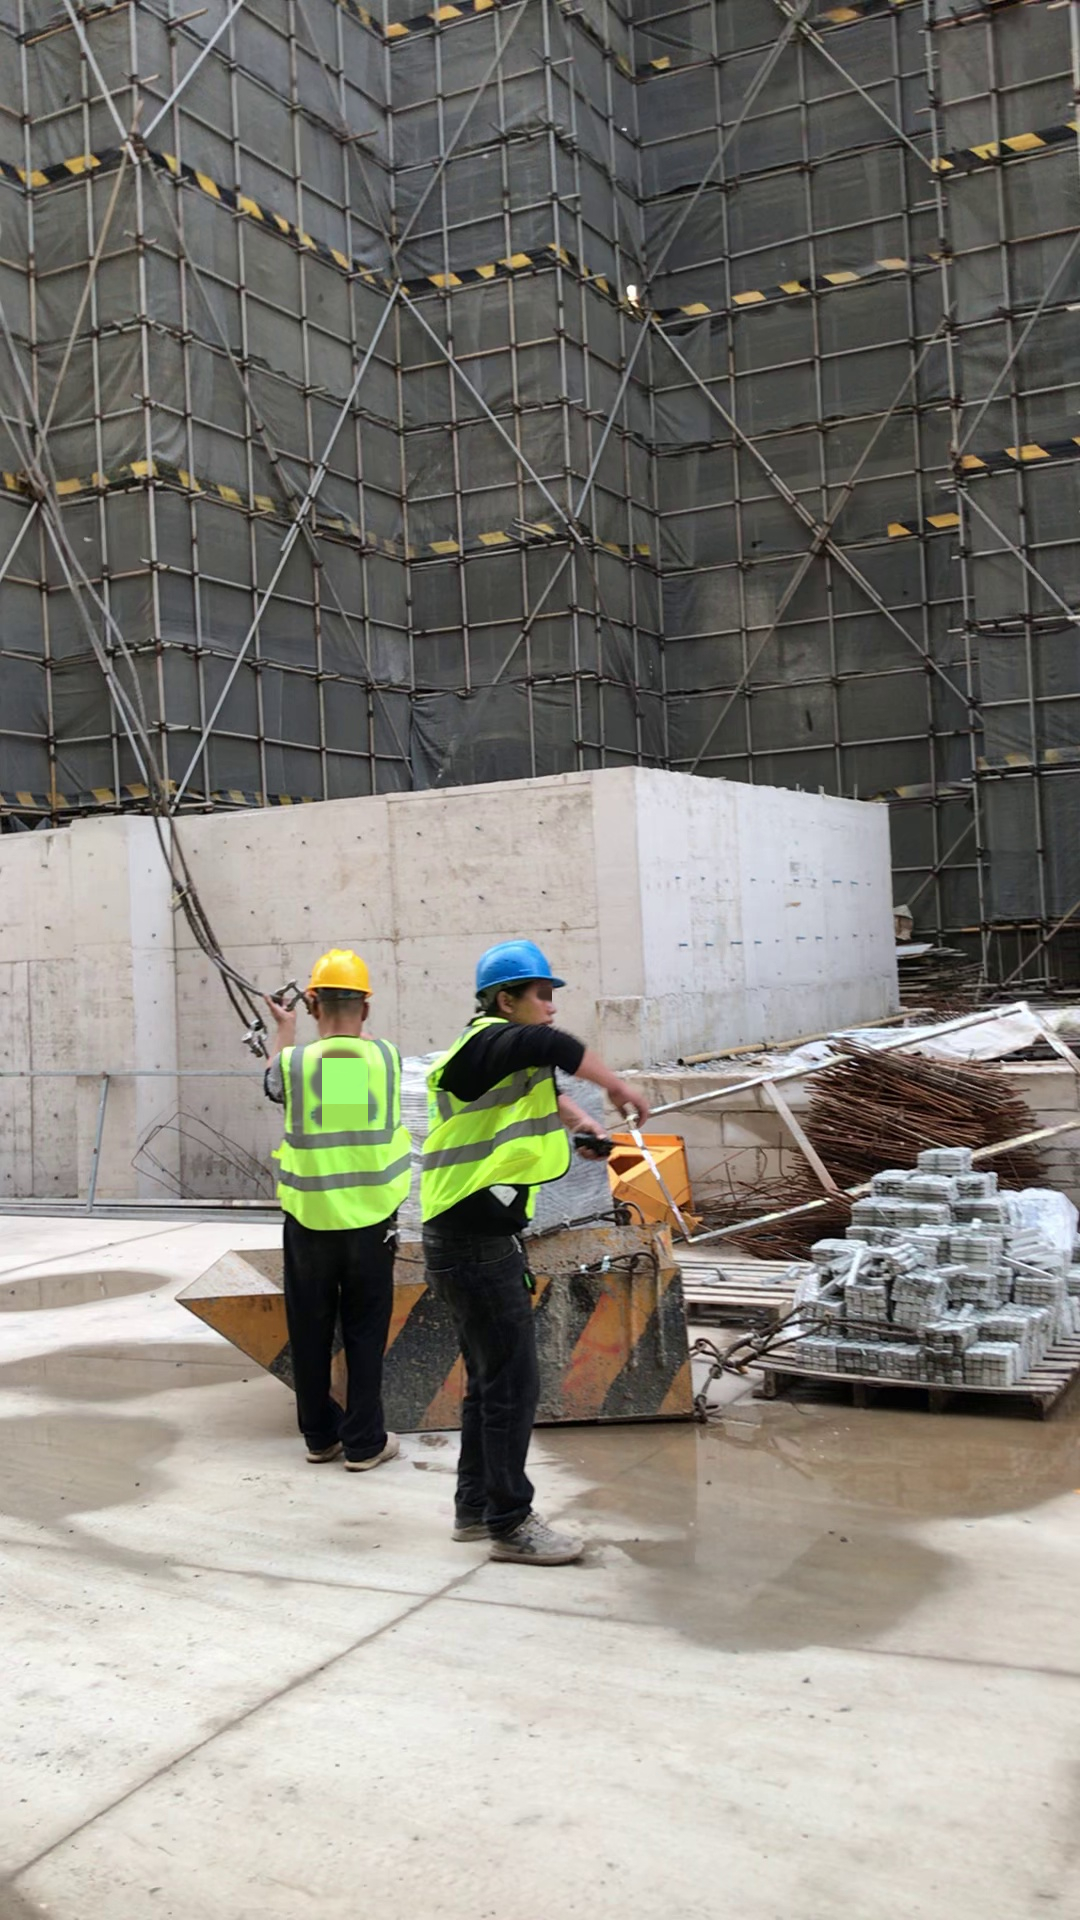helmet: (289, 946, 385, 1004), (466, 942, 568, 994)
person: (414, 945, 647, 1602), (220, 943, 428, 1490)
vest: (434, 1027, 571, 1213), (280, 1038, 408, 1226)
